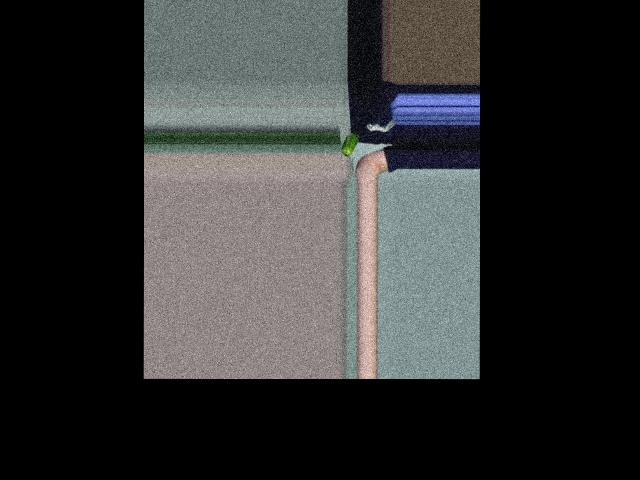cucumber: (341, 132, 358, 156)
